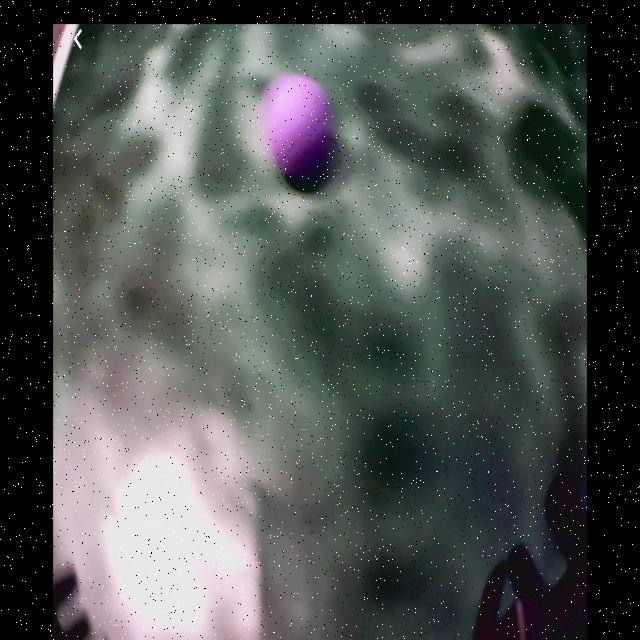ball: (263, 70, 334, 186)
